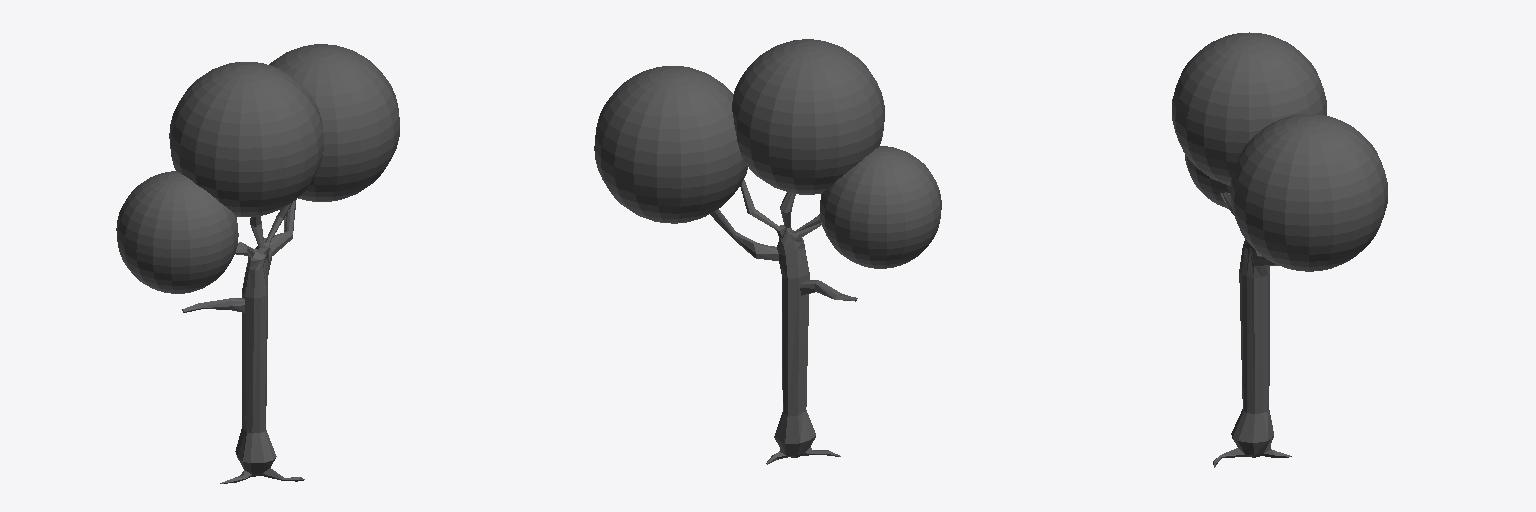
The model's file is treeMain.obj.
3 renders of one model, left to right at view 1: azimuth 30°, elevation 25°; view 2: azimuth 150°, elevation 25°; view 3: azimuth 270°, elevation 25°, orthographic.
Parts seen in each view (by area): view 1: pSphere1, pSphere2, pSphere3, treeMain, branch; view 2: pSphere2, pSphere1, pSphere3, treeMain, branch; view 3: pSphere2, pSphere1, treeMain, pSphere3.
Boxes of the visible parts, <box> form: pSphere1: <box>169,62,323,216</box>; pSphere2: <box>269,44,399,201</box>; pSphere3: <box>116,171,238,293</box>; treeMain: <box>220,199,304,483</box>; branch: <box>182,298,244,312</box>; pSphere2: <box>594,66,747,223</box>; pSphere1: <box>732,39,884,194</box>; pSphere3: <box>820,146,941,268</box>; treeMain: <box>710,180,840,464</box>; branch: <box>800,280,857,301</box>; pSphere2: <box>1230,114,1387,271</box>; pSphere1: <box>1172,32,1326,185</box>; treeMain: <box>1213,192,1291,467</box>; pSphere3: <box>1185,154,1230,208</box>.
Size of the model in its own units: 103 by 136 by 65.21.